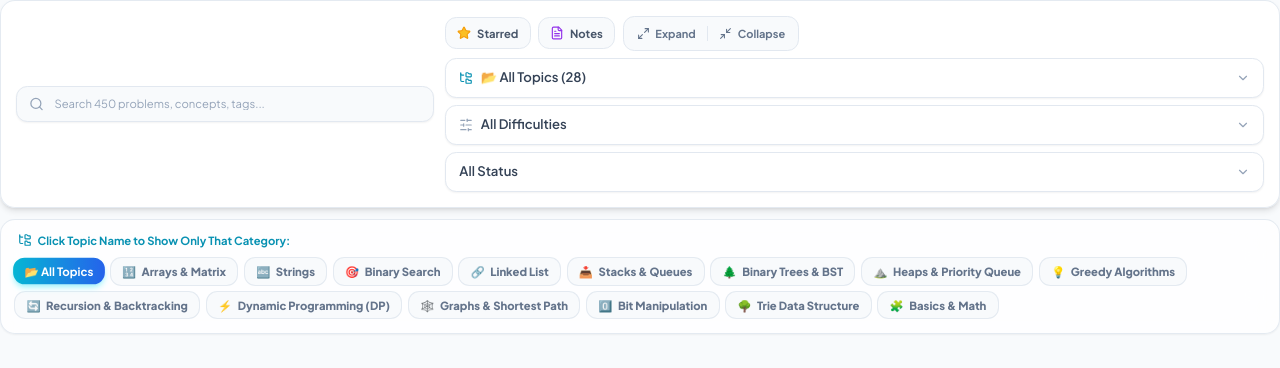
Scenario: SheetFilters Component UI Unit Tests › opens Difficulty dropdown filter when clicked
Click the button "All Difficulties": (524, 124) [445, 105, 1264, 145]
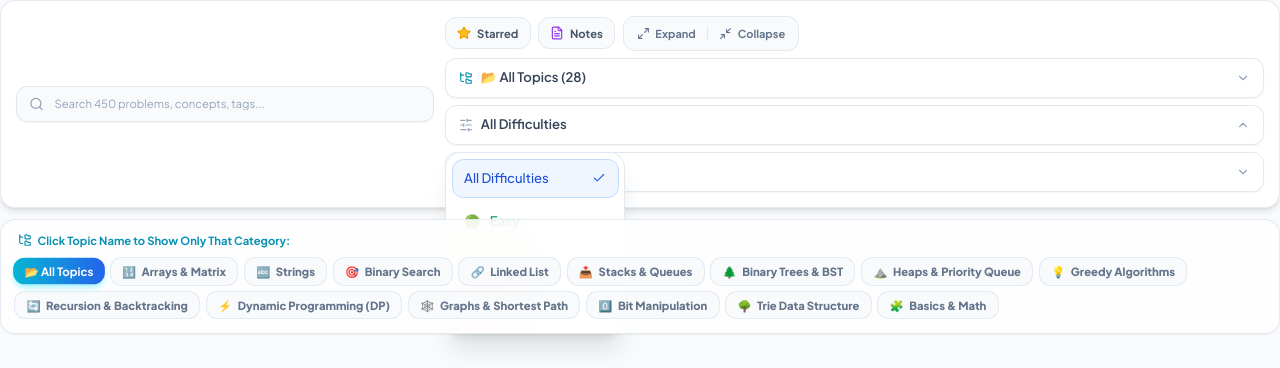
Expected: the text "Medium" is shown, [490, 255, 541, 273]
Expected: the text "Easy" is shown, [490, 212, 519, 230]
